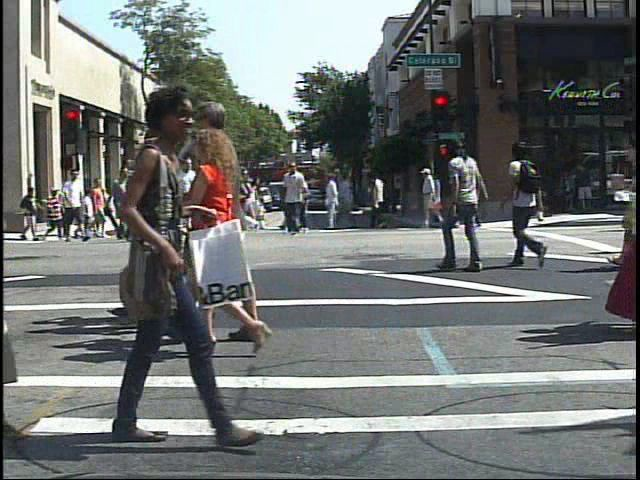person: (96, 77, 256, 453), (171, 94, 250, 347), (193, 120, 278, 353), (503, 139, 556, 273), (439, 137, 490, 276), (167, 154, 204, 248), (124, 160, 154, 242), (61, 165, 91, 246), (111, 162, 140, 243), (418, 163, 444, 229), (42, 184, 67, 243), (87, 181, 107, 223)
